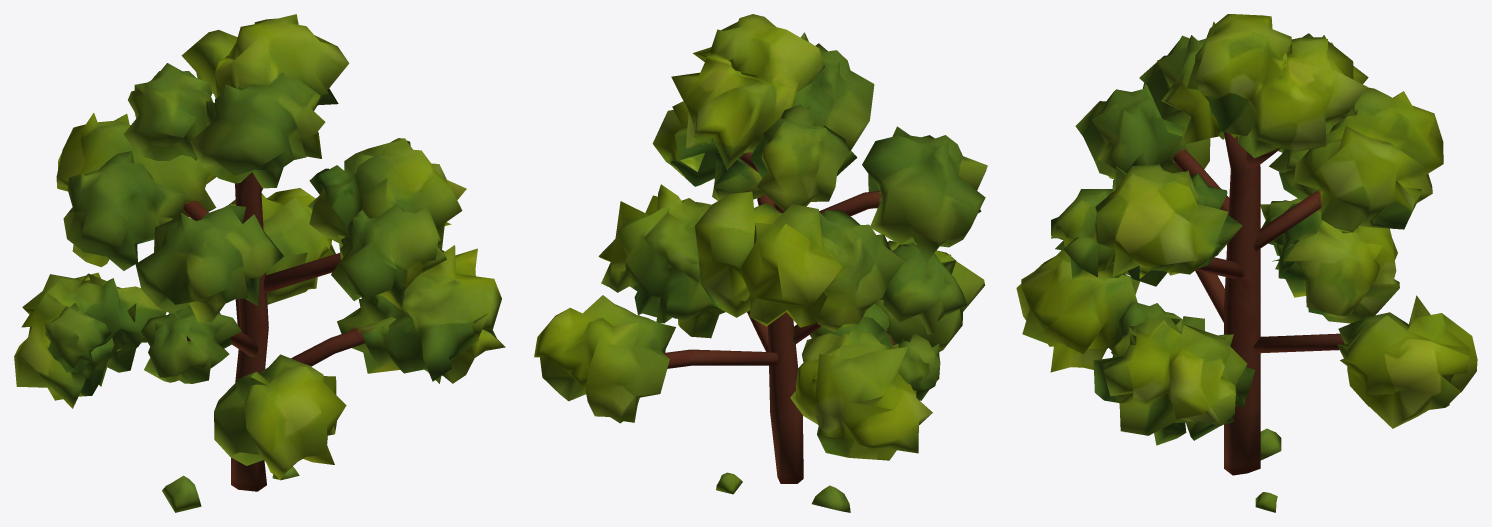
3 renders of one model, left to right at view 1: azimuth 30°, elevation 25°; view 2: azimuth 150°, elevation 25°; view 3: azimuth 270°, elevation 25°, orthographic. The views are drawn at different scales.
Bounding box in the file's own units: 0.8989 × 0.9995 × 0.8813.
1 material, 1 textured.
